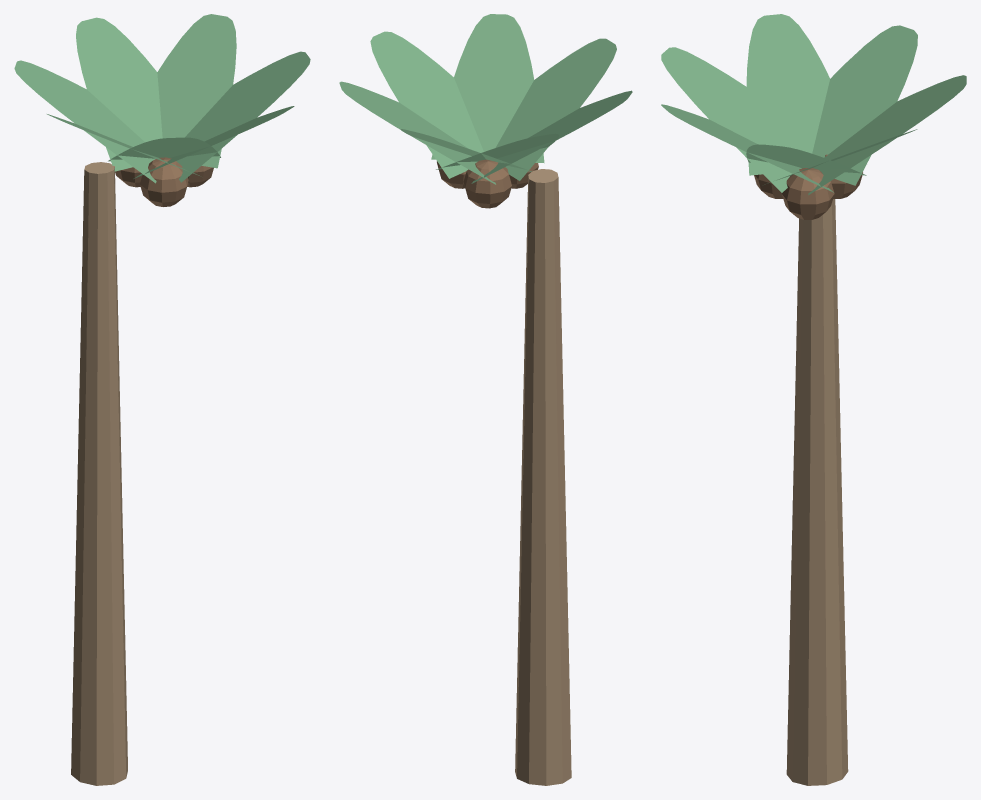
Rendered from coconut-tree.glb.
3 renders of one model, left to right at view 1: azimuth 30°, elevation 25°; view 2: azimuth 150°, elevation 25°; view 3: azimuth 270°, elevation 25°, orthographic. The views are drawn at different scales.
Parts seen in each view (by area): view 1: Trunk, Frond_6, Frond_0, Frond_5, Frond_1, Coconut_2, Frond_3, Frond_4; view 2: Trunk, Frond_4, Frond_5, Frond_3, Frond_6, Frond_2, Coconut_1, Frond_1, Frond_0; view 3: Trunk, Frond_2, Frond_1, Frond_3, Frond_0, Coconut_0, Frond_4, Frond_5.
Boxes of the visible parts, box(x1,y1,x2,y2) form: Trunk: box(71, 162, 127, 785); Frond_6: box(157, 14, 236, 168); Frond_0: box(76, 17, 162, 171); Frond_5: box(176, 51, 310, 182); Frond_1: box(14, 60, 156, 183); Coconut_2: box(140, 157, 188, 206); Frond_3: box(108, 137, 220, 161); Frond_4: box(133, 106, 294, 178); Trunk: box(515, 169, 571, 785); Frond_4: box(431, 14, 544, 163); Frond_5: box(370, 31, 483, 178); Frond_3: box(495, 38, 616, 180); Frond_6: box(339, 81, 495, 184); Frond_2: box(471, 90, 632, 183); Coconut_1: box(463, 159, 511, 208); Frond_1: box(436, 133, 559, 169); Frond_0: box(400, 129, 531, 171); Trunk: box(786, 199, 848, 785); Frond_2: box(746, 14, 829, 175); Frond_1: box(812, 25, 917, 185); Frond_3: box(661, 47, 792, 192); Frond_0: box(808, 75, 966, 195); Coconut_0: box(782, 168, 834, 219); Frond_4: box(661, 104, 833, 192); Frond_5: box(746, 144, 866, 175).
Size of the model in its own units: 1.42 by 3.64 by 1.39.
